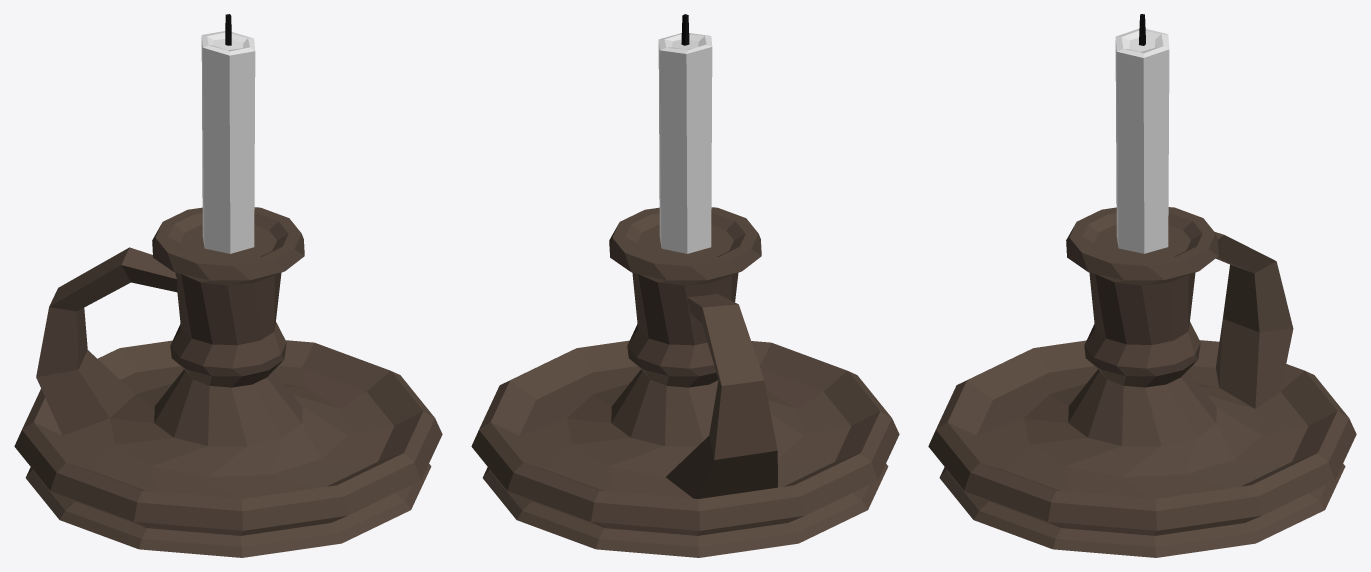
Rendered from Candle.fbx.
3 renders of one model, left to right at view 1: azimuth 30°, elevation 25°; view 2: azimuth 150°, elevation 25°; view 3: azimuth 270°, elevation 25°, orthographic.
Visible parts, largest first — view 1: Candle; view 2: Candle; view 3: Candle.
Part boxes in pixels (x1,y1,x2,y2): Candle: (14, 14, 442, 557); Candle: (471, 14, 899, 557); Candle: (928, 14, 1356, 557).
Bounding box in the file's own units: 687 × 809 × 687.
